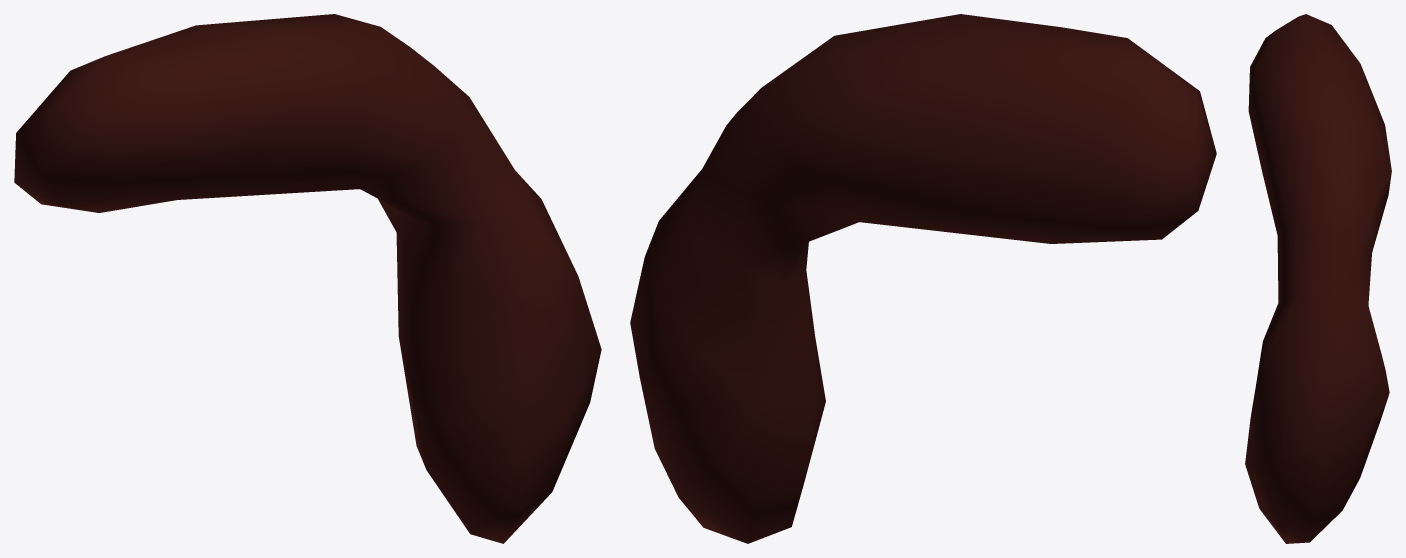
The model's file is Poo_LP.fbx.
The picture shows the model from 3 angles, left to right: view 1: azimuth 30°, elevation 25°; view 2: azimuth 150°, elevation 25°; view 3: azimuth 270°, elevation 25°; orthographic projection. The views are drawn at different scales.
Parts seen in each view (by area): view 1: Turd_LP; view 2: Turd_LP; view 3: Turd_LP.
Boxes of the visible parts, <box> form: Turd_LP: <box>14,14,601,543</box>; Turd_LP: <box>630,14,1216,543</box>; Turd_LP: <box>1245,14,1391,543</box>.
Size of the model in its own units: 8.17 by 8.02 by 2.68.
